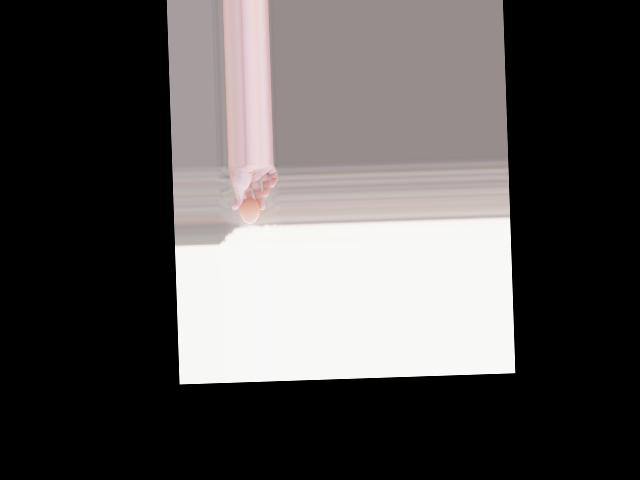egg: (239, 198, 260, 224)
